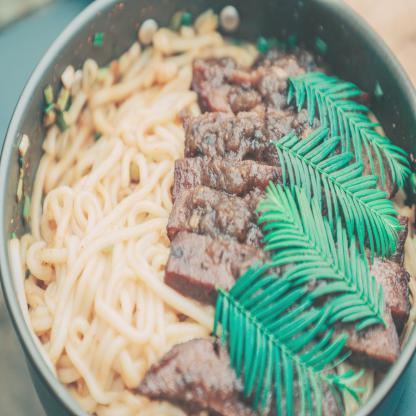Carne: (154, 342, 244, 413), (170, 190, 255, 241), (170, 231, 241, 286), (192, 119, 280, 161), (177, 160, 274, 192)
